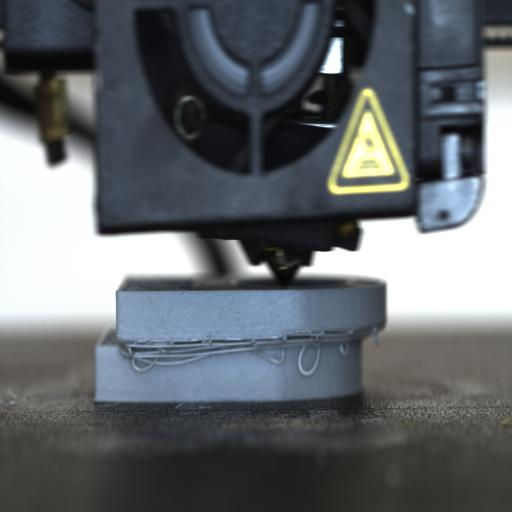layer_shift: (94, 320, 388, 351)
